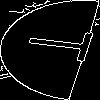T: (25, 25, 100, 65)
